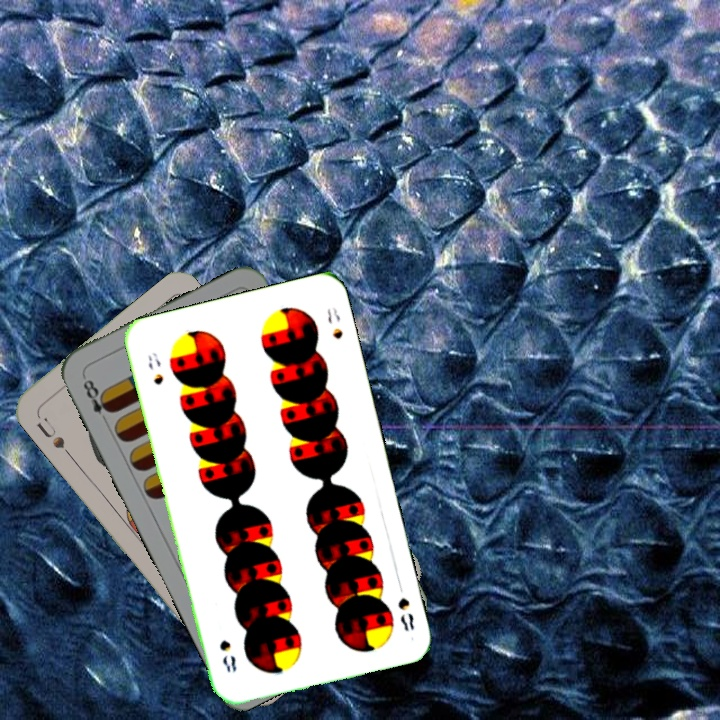E8: (79, 372, 116, 427)
S8: (393, 593, 417, 634), (144, 348, 166, 388)
SU: (33, 413, 75, 460)
